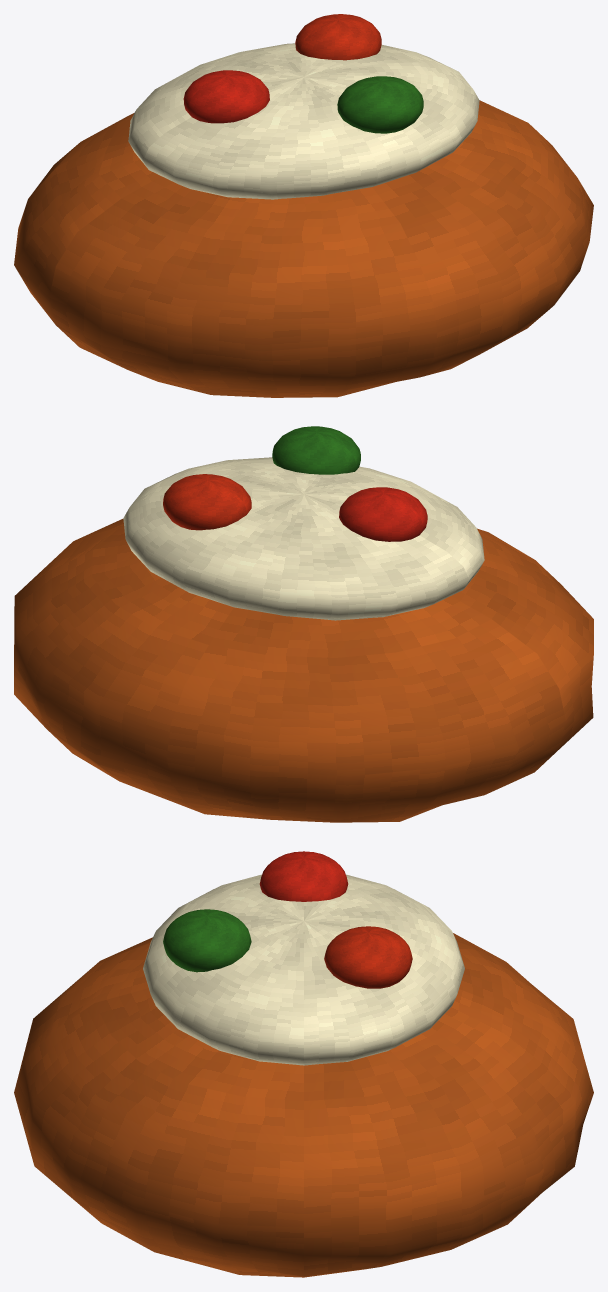
The model's file is bread_fruit_cheese.glb.
The picture shows the model from 3 angles, top to bottom: view 1: azimuth 30°, elevation 25°; view 2: azimuth 150°, elevation 25°; view 3: azimuth 270°, elevation 25°; orthographic projection. The views are drawn at different scales.
Parts seen in each view (by area): view 1: ふっくらした生地.016, フルーツクリームチーズ, フルーツ.002, フルーツ, フルーツ.001; view 2: ふっくらした生地.016, フルーツクリームチーズ, フルーツ.001, フルーツ, フルーツ.002; view 3: ふっくらした生地.016, フルーツクリームチーズ, フルーツ.001, フルーツ.002, フルーツ.
Boxes of the visible parts, x1,y1,x2,y2 form: ふっくらした生地.016: (14,100,593,397); フルーツクリームチーズ: (128,43,479,199); フルーツ.002: (337,76,423,133); フルーツ: (183,70,269,123); フルーツ.001: (295,14,381,60); ふっくらした生地.016: (14,519,593,822); フルーツクリームチーズ: (123,457,484,620); フルーツ.001: (163,474,251,530); フルーツ: (339,487,427,541); フルーツ.002: (272,426,360,474); ふっくらした生地.016: (14,933,593,1277); フルーツクリームチーズ: (143,874,464,1065); フルーツ.001: (324,926,412,988); フルーツ.002: (163,909,251,972); フルーツ: (259,851,348,901).
Size of the model in its own units: 0.7929 by 0.435 by 0.72.
5 materials, 5 textured.
